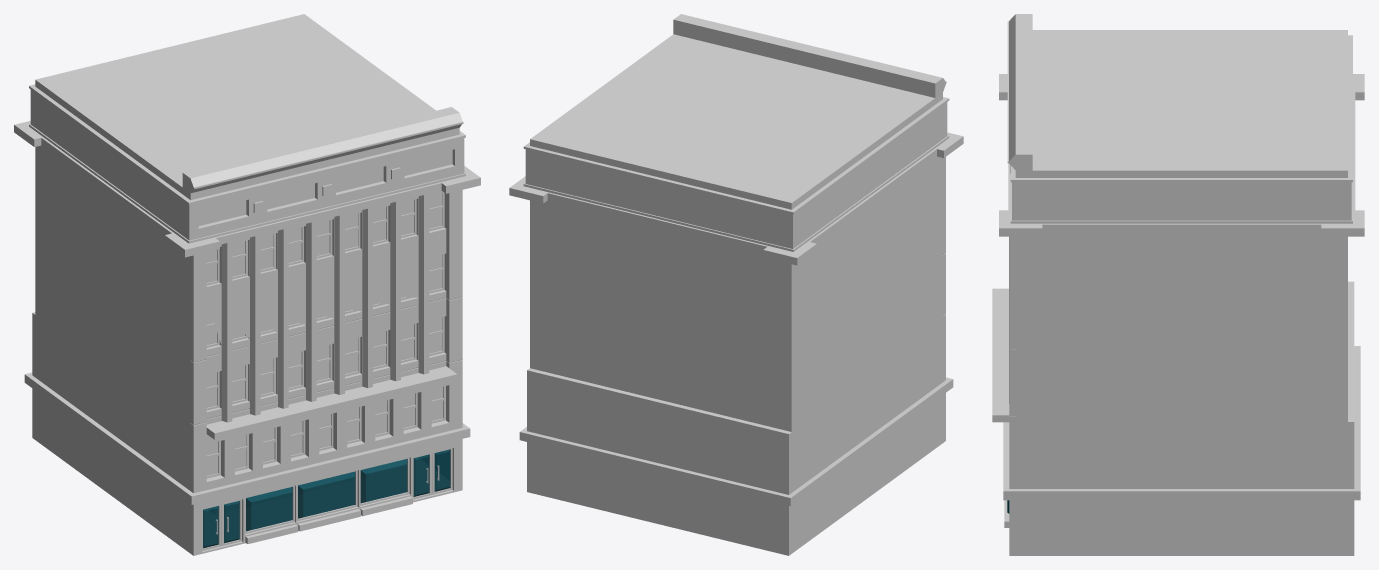
Rendered from building_office_01_small.fbx.
The picture shows the model from 3 angles, left to right: view 1: azimuth 30°, elevation 25°; view 2: azimuth 150°, elevation 25°; view 3: azimuth 270°, elevation 25°; orthographic projection. The views are drawn at different scales.
Visible parts, largest first — view 1: building_office_01_small, building_office_01_floor_small_glass; view 2: building_office_01_small; view 3: building_office_01_small.
Part boxes in pixels (x1,y1,x2,y2): building_office_01_small: [14, 14, 480, 555]; building_office_01_floor_small_glass: [203, 449, 450, 548]; building_office_01_small: [509, 14, 963, 555]; building_office_01_small: [992, 14, 1364, 555].
Size of the model in its own units: 1979 by 2400 by 2017.
